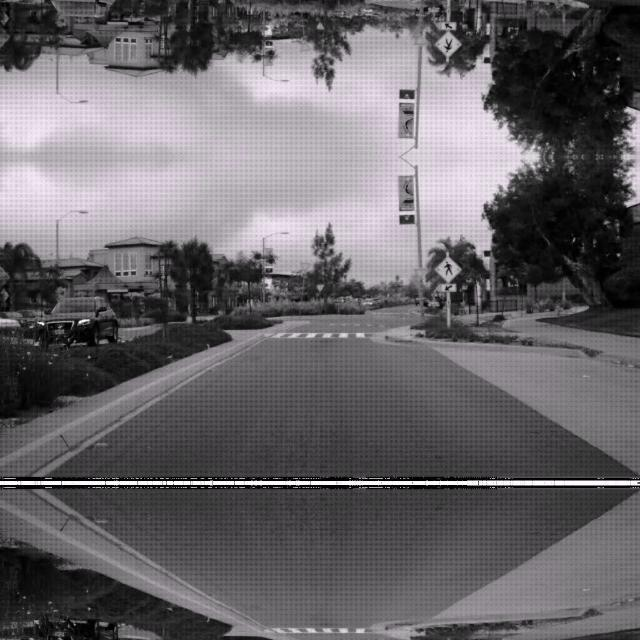pedestrianCrossing: (433, 254, 461, 282), (433, 30, 461, 58)
yield: (412, 266, 428, 280), (412, 32, 428, 46), (299, 260, 311, 270), (299, 42, 311, 52)
